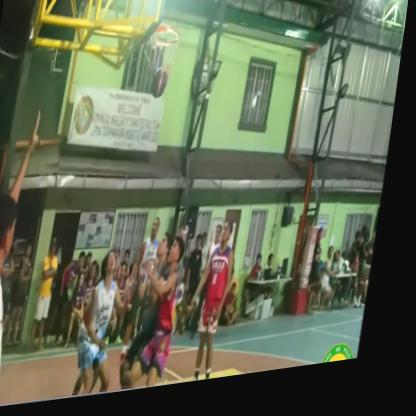basketball: (150, 66, 173, 109)
rim: (139, 19, 186, 98)
